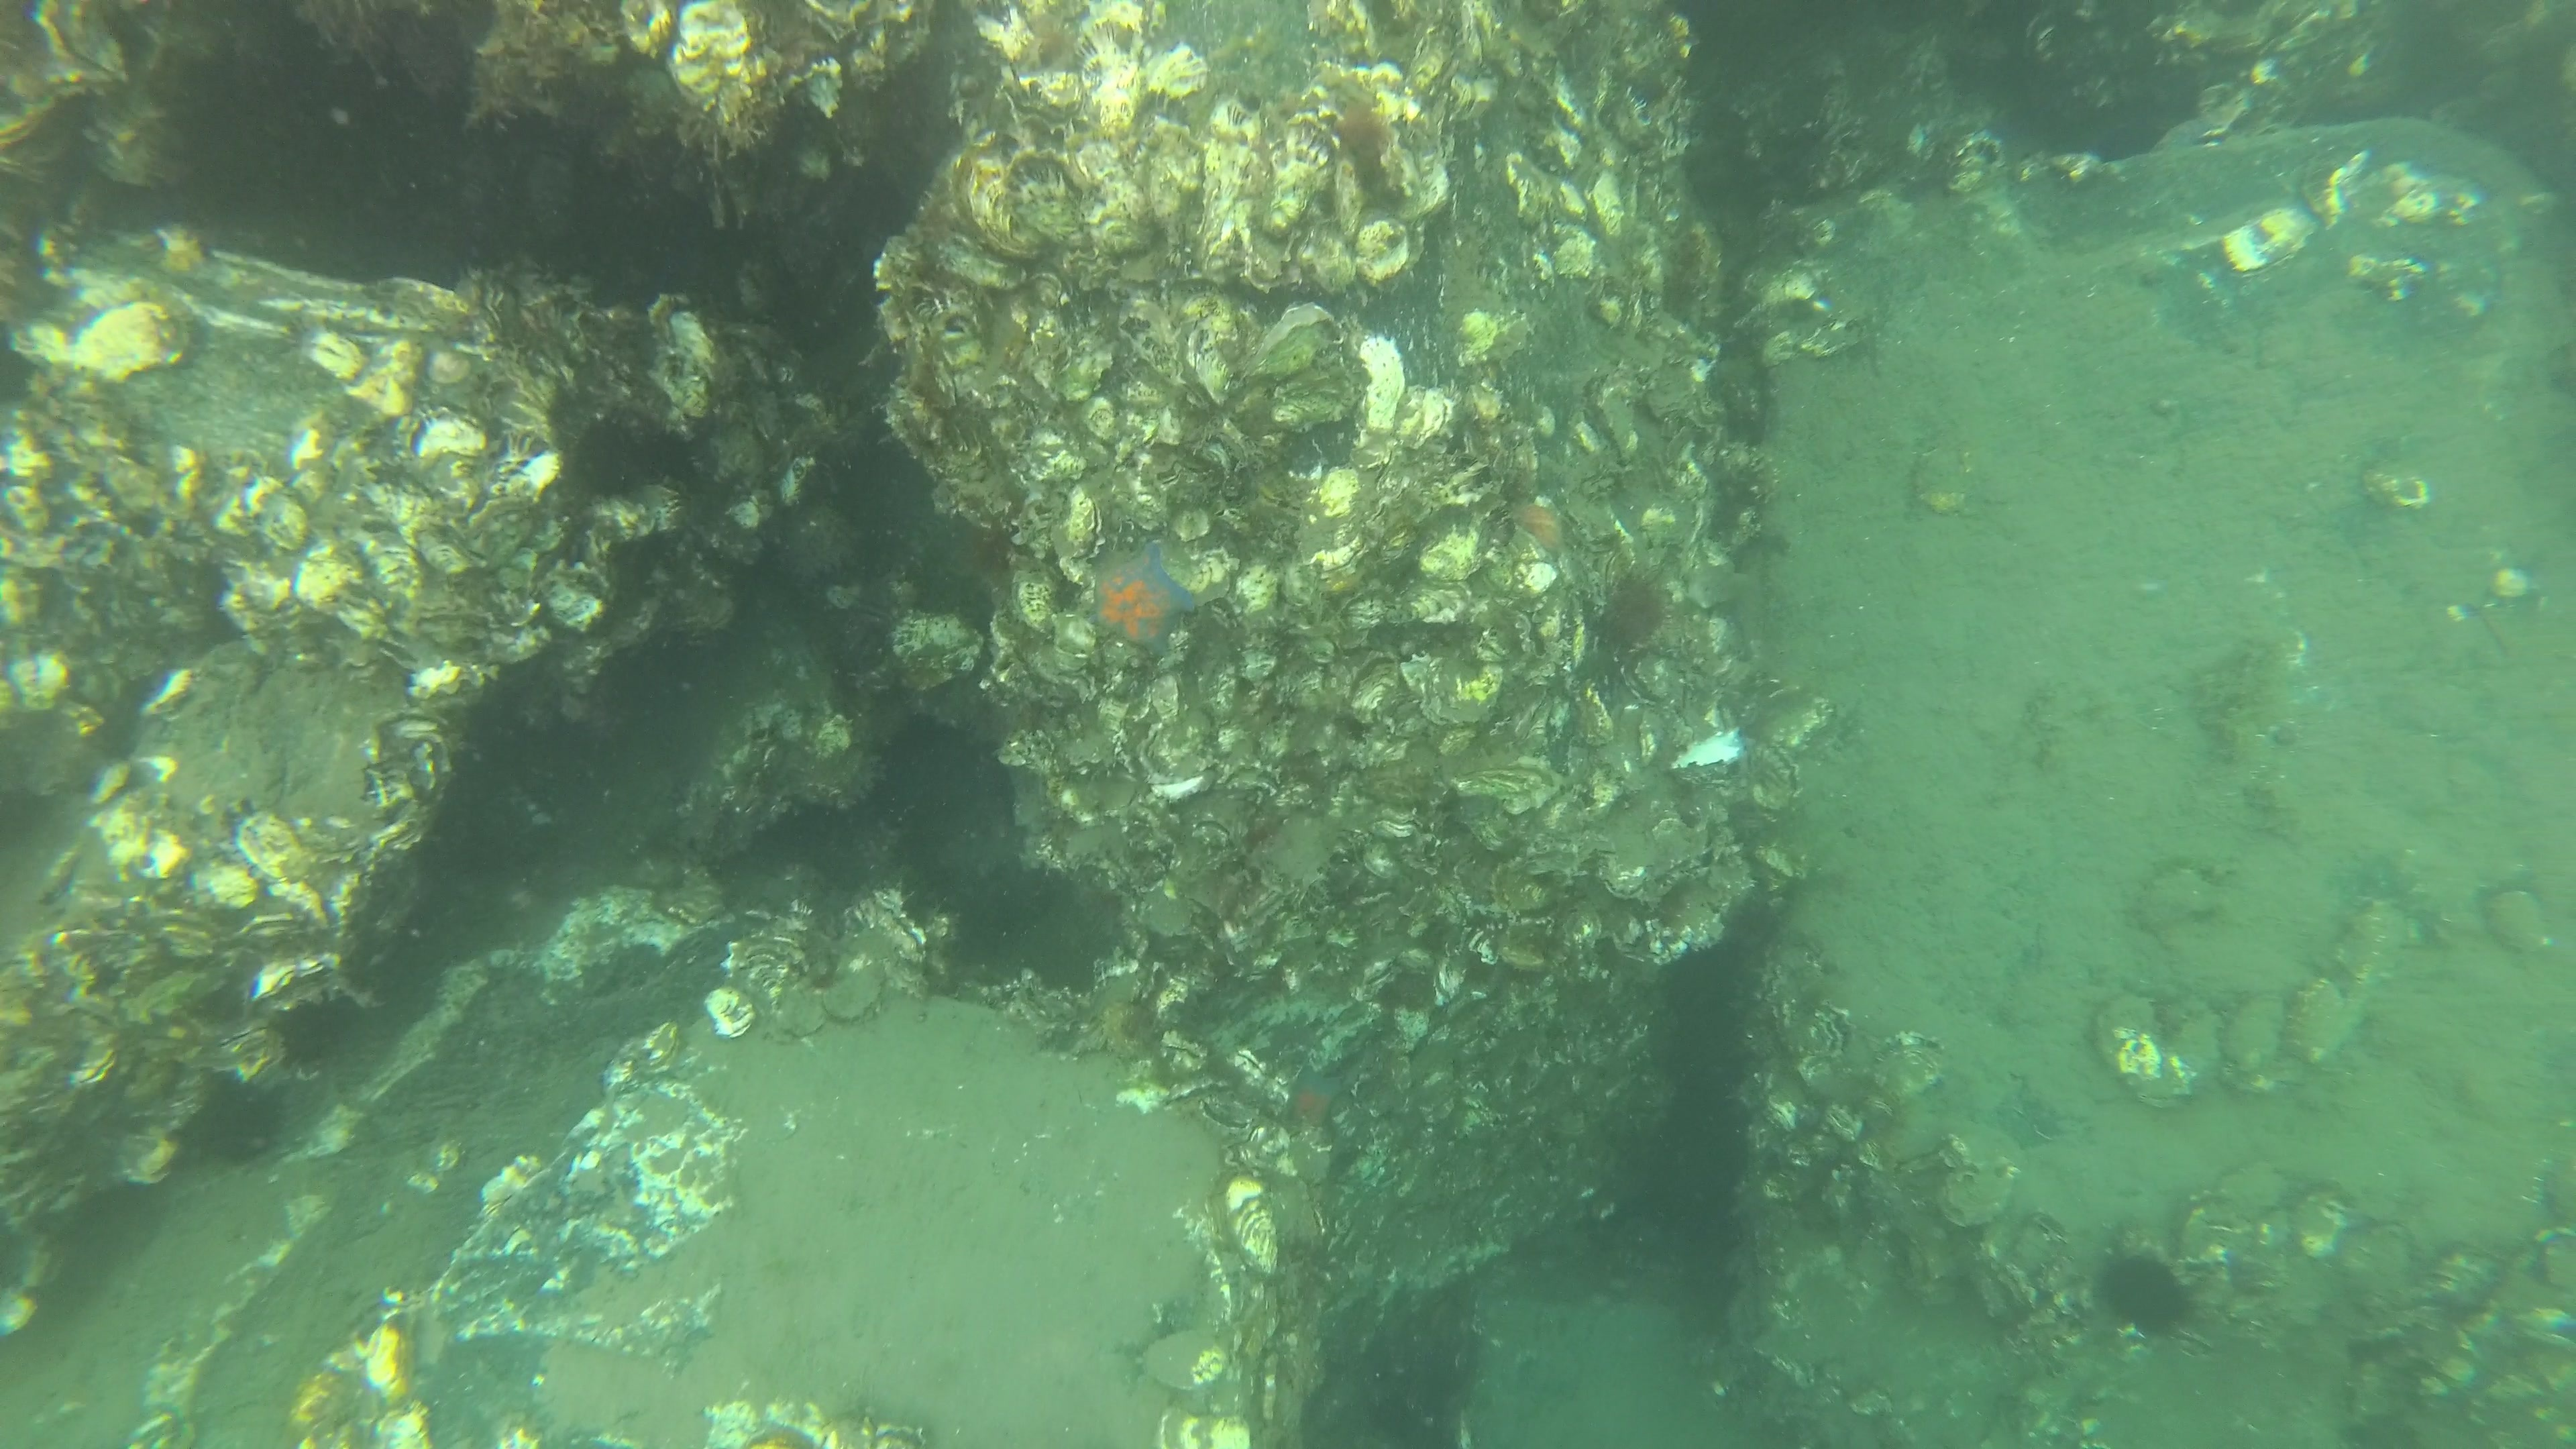echinus: (2091, 1246, 2206, 1346), (196, 1049, 299, 1152), (557, 405, 658, 510), (253, 962, 354, 1067), (1599, 561, 1677, 658), (642, 419, 704, 481)
starfish: (1072, 541, 1207, 667), (1276, 1060, 1353, 1139)
